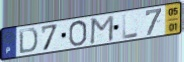7: (144, 7, 163, 36), (41, 23, 60, 52)
D: (18, 27, 39, 56)
L: (122, 12, 139, 41)
M: (89, 14, 115, 46)
O: (68, 19, 89, 47)
